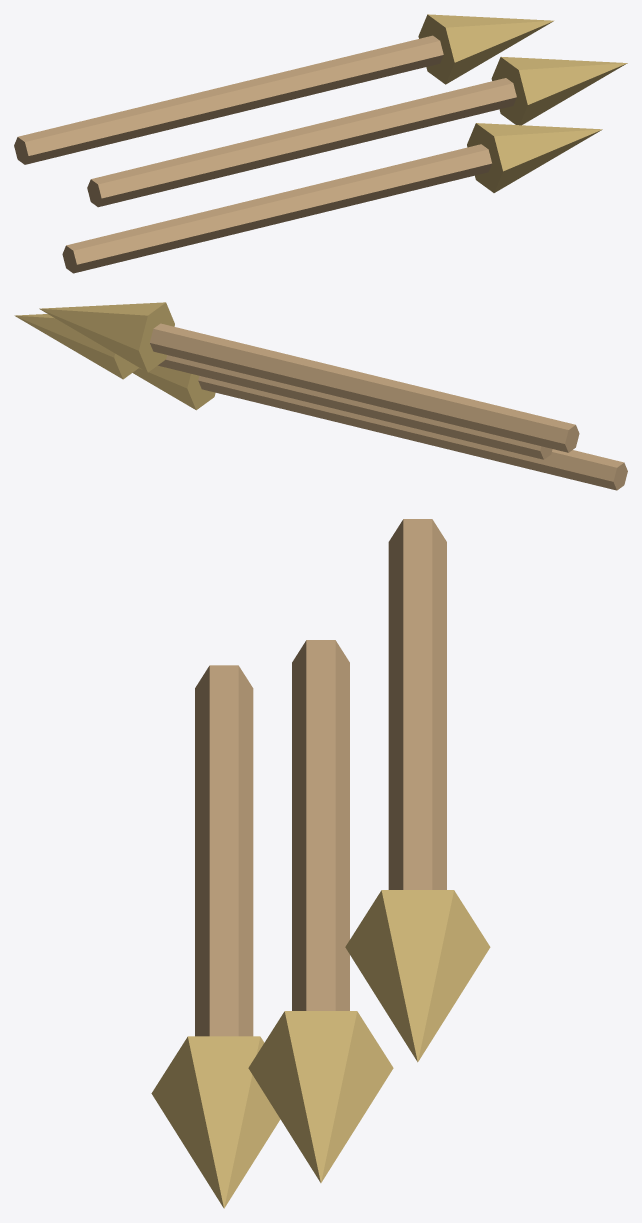
File: item_086_bronze_spear_m.glb
3 views of the same model, one above another, from view 1: azimuth 30°, elevation 25°; view 2: azimuth 150°, elevation 25°; view 3: azimuth 270°, elevation 25° (orthographic). The views are drawn at different scales.
Visible parts, largest first — view 1: item_086_bronze_spear_m; view 2: item_086_bronze_spear_m; view 3: item_086_bronze_spear_m.
Part boxes in pixels (x1,y1,x2,y2): item_086_bronze_spear_m: (14,14,627,273); item_086_bronze_spear_m: (14,302,627,490); item_086_bronze_spear_m: (151,519,490,1208).
Bounding box in the file's own units: 0.8332 × 0.1779 × 0.21.
